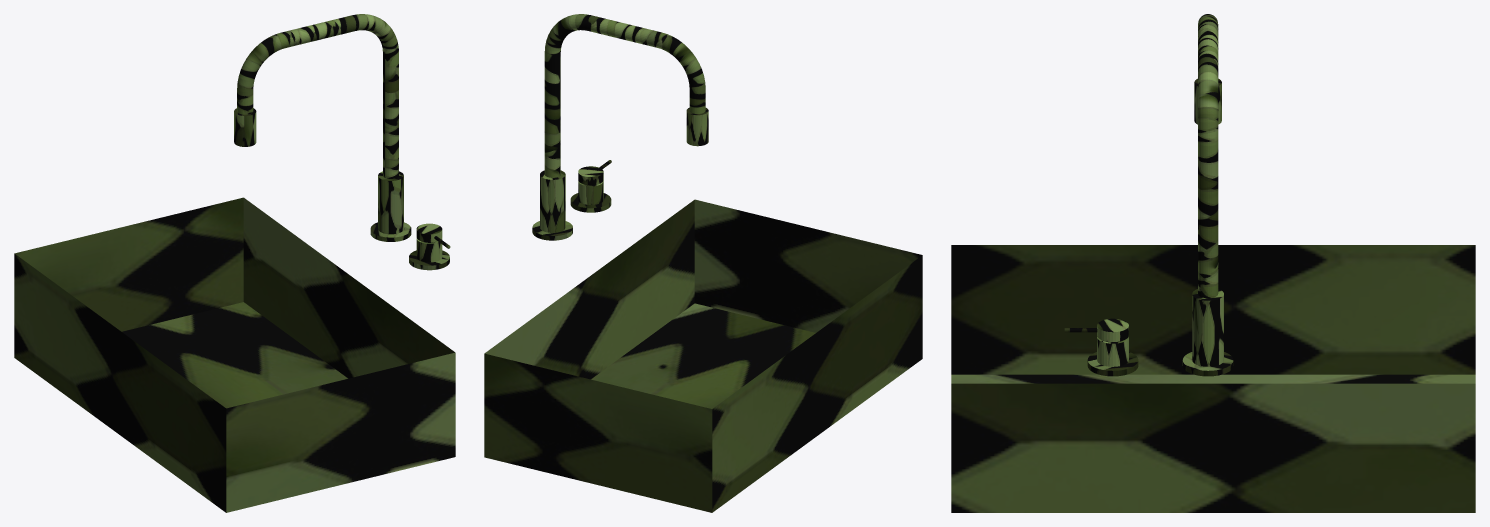
Rendered from modern_scandinavian_kitchen_island_6.obj.
The picture shows the model from 3 angles, left to right: view 1: azimuth 30°, elevation 25°; view 2: azimuth 150°, elevation 25°; view 3: azimuth 270°, elevation 25°; orthographic projection. The views are drawn at different scales.
Bounding box in the file's own units: 0.6855 × 0.8349 × 0.8785.
